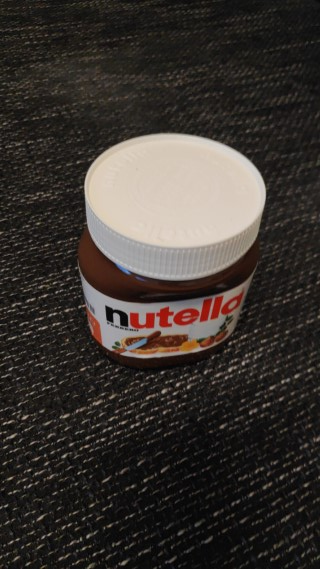nutella: (75, 128, 266, 373)
